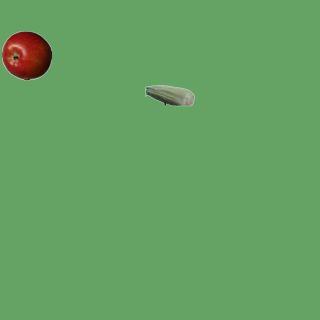Apple Braeburn: (1, 30, 51, 80)
Corn Husk: (144, 70, 194, 120)
